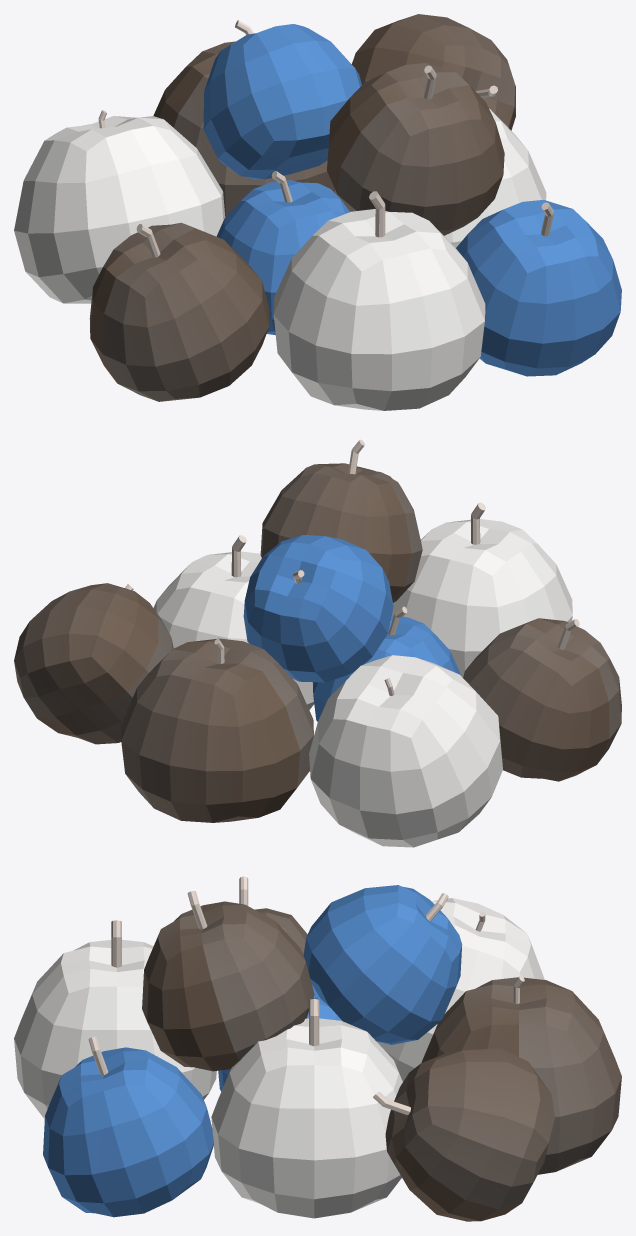
Rendered from Living_Room_apples.fbx.
The picture shows the model from 3 angles, top to bottom: view 1: azimuth 30°, elevation 25°; view 2: azimuth 150°, elevation 25°; view 3: azimuth 270°, elevation 25°; orthographic projection. The views are drawn at different scales.
Visible parts, largest first — view 1: Living_Room_apples; view 2: Living_Room_apples; view 3: Living_Room_apples.
Part boxes in pixels (x1,y1,x2,y2): Living_Room_apples: (14, 14, 621, 410); Living_Room_apples: (14, 439, 621, 847); Living_Room_apples: (14, 876, 621, 1221).
Size of the model in its own units: 20.93 by 11.04 by 21.56.
